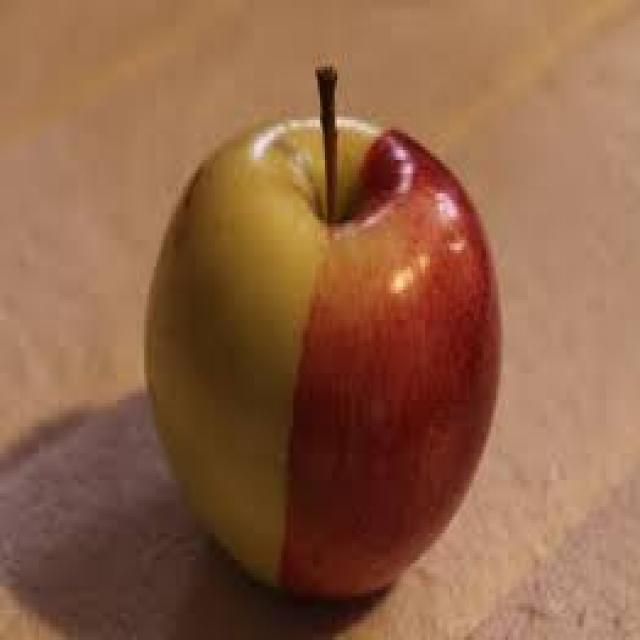Apple: (141, 112, 500, 604)
